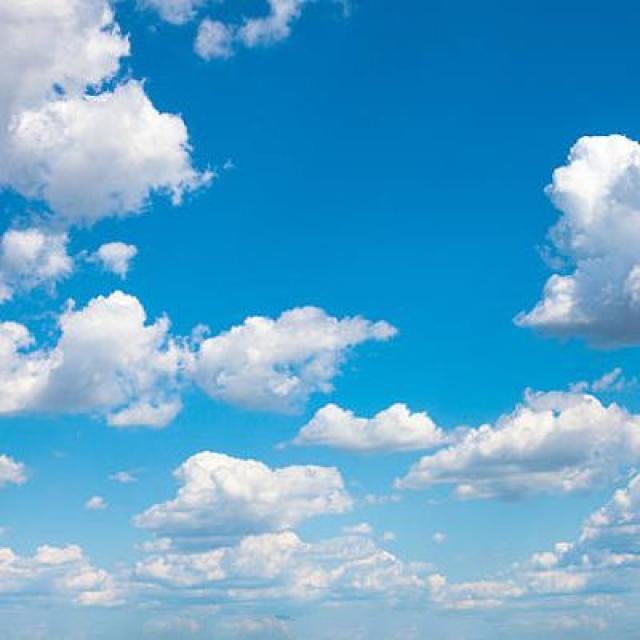Cu: (25, 35, 640, 612)
